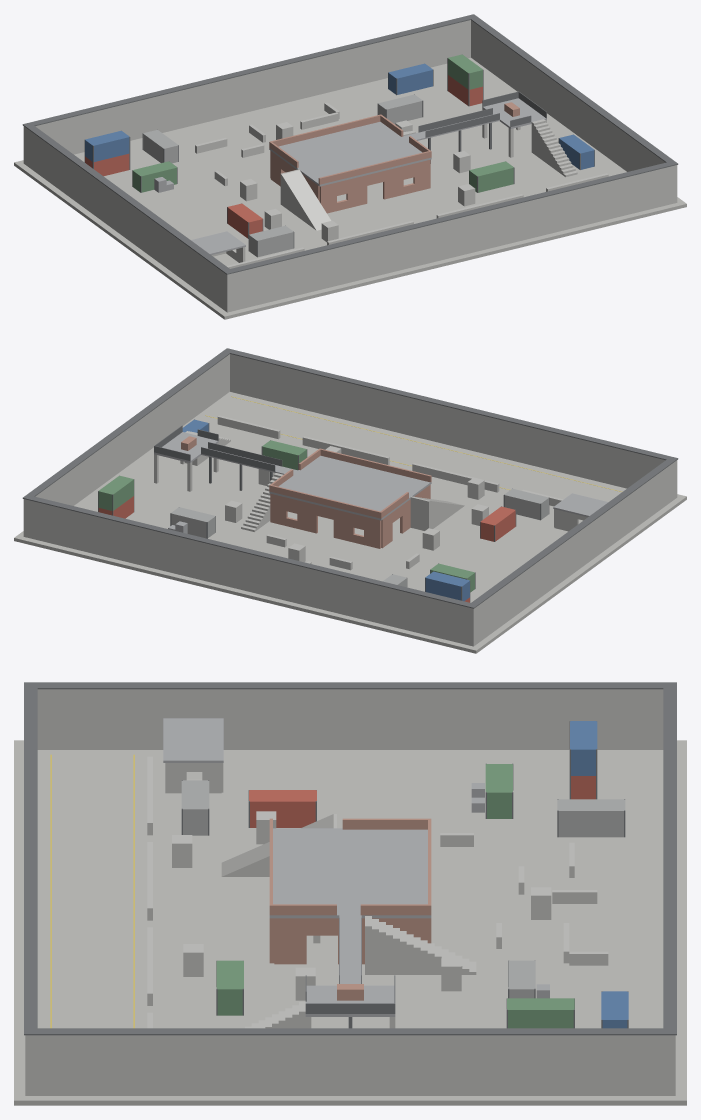
File: arena_fallback.glb
3 renders of one model, top to bottom at view 1: azimuth 30°, elevation 25°; view 2: azimuth 150°, elevation 25°; view 3: azimuth 270°, elevation 25°, orthographic. The views are drawn at different scales.
Parts seen in each view (by area): view 1: R_concrete_wall, R_concrete_floor, R_trim, R_metal, R_brick, R_container_blue, R_container_grey, R_container_green, R_container_red; view 2: R_concrete_wall, R_concrete_floor, R_trim, R_metal, R_brick, R_container_green, R_container_grey, R_container_red, R_container_blue, R_lane_paint; view 3: R_concrete_floor, R_concrete_wall, R_trim, R_metal, R_brick, R_container_grey, R_container_green, R_container_red, R_container_blue, R_lane_paint.
Boxes of the visible parts, left/top/right/bottom form: R_concrete_wall: left=23, top=20, right=677, bottom=312; R_concrete_floor: left=14, top=58, right=686, bottom=319; R_trim: left=22, top=14, right=678, bottom=274; R_metal: left=154, top=98, right=546, bottom=254; R_brick: left=269, top=102, right=519, bottom=213; R_container_blue: left=85, top=63, right=594, bottom=169; R_container_grey: left=143, top=94, right=422, bottom=256; R_container_green: left=132, top=54, right=513, bottom=192; R_container_red: left=85, top=75, right=482, bottom=238; R_concrete_wall: left=23, top=354, right=677, bottom=646; R_concrete_floor: left=14, top=392, right=686, bottom=653; R_trim: left=22, top=348, right=678, bottom=608; R_metal: left=154, top=432, right=608, bottom=533; R_brick: left=181, top=436, right=431, bottom=548; R_container_green: left=98, top=440, right=474, bottom=592; R_container_grey: left=171, top=489, right=548, bottom=587; R_container_red: left=98, top=496, right=515, bottom=602; R_container_blue: left=182, top=419, right=469, bottom=601; R_lane_paint: left=205, top=396, right=622, bottom=491; R_concrete_floor: left=14, top=740, right=686, bottom=1105; R_concrete_wall: left=25, top=689, right=675, bottom=1095; R_trim: left=24, top=682, right=676, bottom=1035; R_metal: left=163, top=718, right=549, bottom=1016; R_brick: left=269, top=818, right=431, bottom=1000; R_container_grey: left=181, top=780, right=625, bottom=998; R_container_green: left=216, top=764, right=574, bottom=1028; R_container_red: left=249, top=776, right=595, bottom=827; R_container_blue: left=570, top=721, right=628, bottom=1028; R_lane_paint: left=50, top=754, right=134, bottom=1028.
Size of what is drawn, in the model's own units: 76 by 6.65 by 60.
